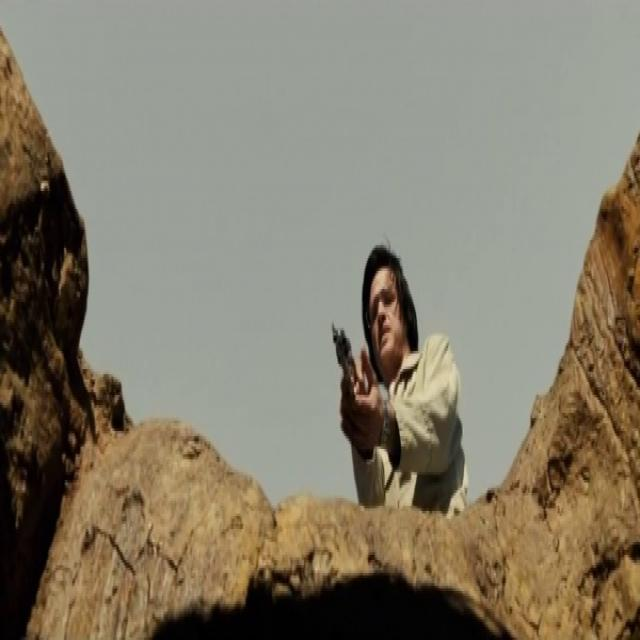weapons: (318, 312, 372, 441)
